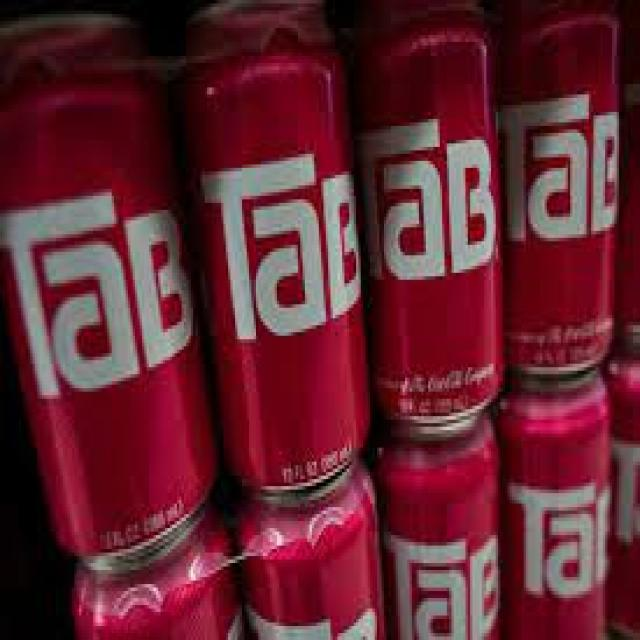Cans: (5, 7, 212, 567), (165, 4, 372, 493), (354, 11, 514, 423)
